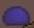slime: (0, 1, 34, 28)
